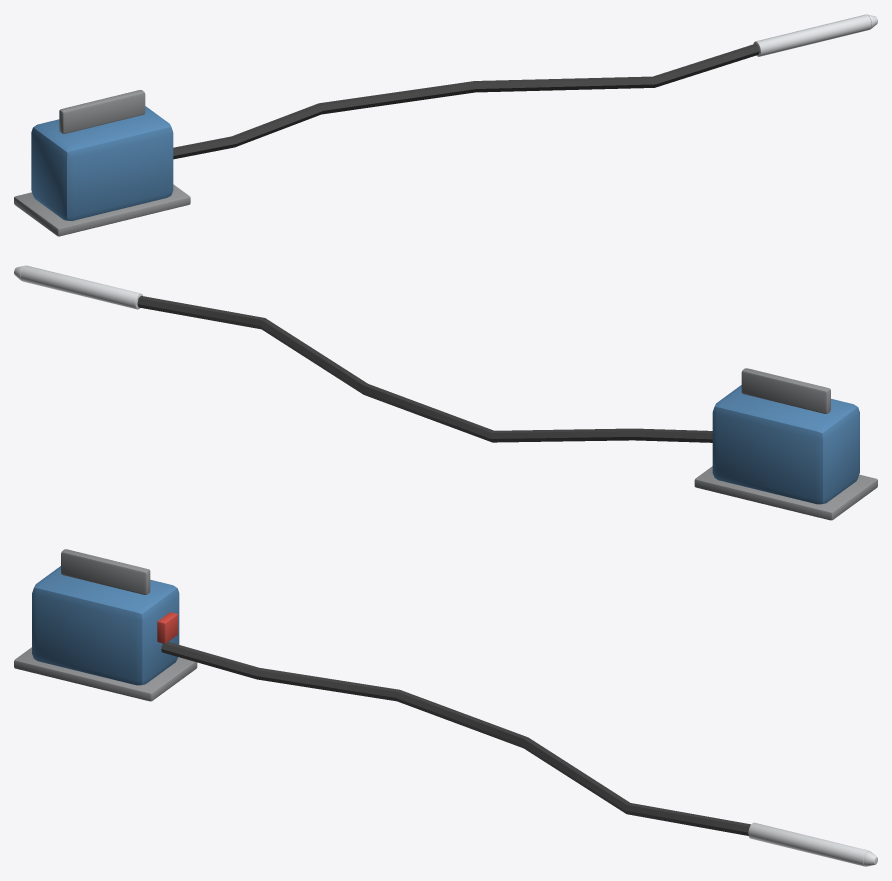
File: EQP-CON-002_lod1.glb
3 views of the same model, one above another, from view 1: azimuth 30°, elevation 25°; view 2: azimuth 150°, elevation 25°; view 3: azimuth 330°, elevation 25° (orthographic). The views are drawn at different scales.
Parts seen in each view (by area): view 1: EQP-CON-002_motor, EQP-CON-002_mangote, EQP-CON-002_base, EQP-CON-002_alca, EQP-CON-002_agulha; view 2: EQP-CON-002_motor, EQP-CON-002_mangote, EQP-CON-002_base, EQP-CON-002_alca, EQP-CON-002_agulha; view 3: EQP-CON-002_motor, EQP-CON-002_mangote, EQP-CON-002_base, EQP-CON-002_alca, EQP-CON-002_agulha.
Part boxes in pixels (x1,y1,x2,y2): EQP-CON-002_motor: (31, 106, 173, 220); EQP-CON-002_mangote: (173, 44, 759, 159); EQP-CON-002_base: (14, 184, 190, 236); EQP-CON-002_alca: (59, 90, 145, 133); EQP-CON-002_agulha: (753, 14, 871, 56); EQP-CON-002_motor: (712, 385, 859, 504); EQP-CON-002_mangote: (137, 296, 712, 442); EQP-CON-002_base: (694, 466, 877, 520); EQP-CON-002_alca: (741, 368, 830, 413); EQP-CON-002_agulha: (20, 265, 142, 309); EQP-CON-002_motor: (32, 566, 179, 685); EQP-CON-002_mangote: (161, 641, 750, 835); EQP-CON-002_base: (14, 647, 197, 701); EQP-CON-002_alca: (61, 549, 150, 594); EQP-CON-002_agulha: (748, 822, 868, 866).
Bounding box in the file's own units: 2.97 × 0.36 × 0.3857.
